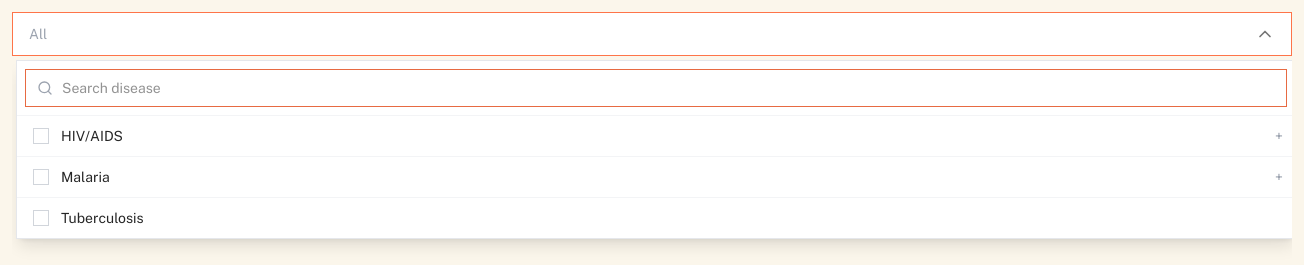
Scenario: HierarchicalDiseaseFilter — search › matches a parent when one of its children matches the query
Type "falciparum" into the field with placeholder "Search disease".
click(656, 88); type("falciparum")  # box [25,69,1287,107]
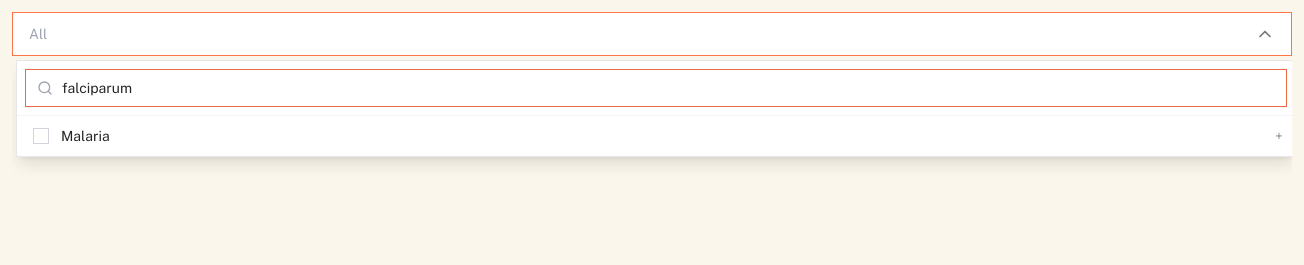
Check: the button labelled "Malaria" is shown, box [17,116,1263,156]
Check: the button labelled "HIV/AIDS" is gone
